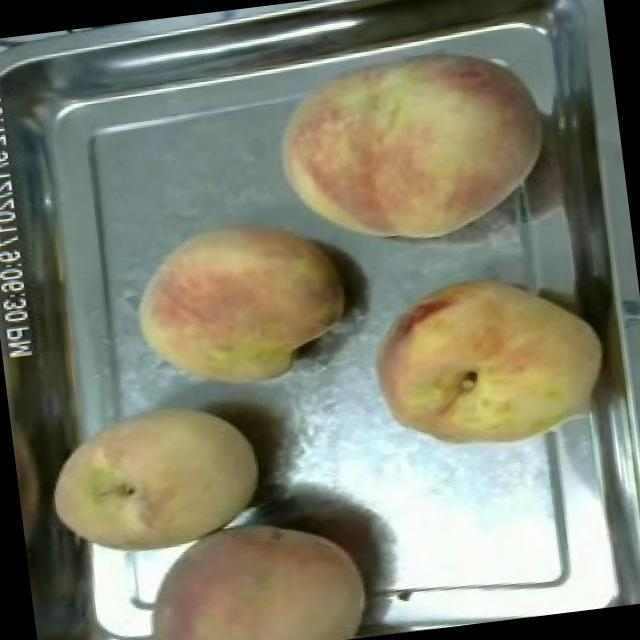Fruit: (260, 15, 564, 264), (355, 251, 625, 472), (23, 382, 278, 582), (119, 200, 362, 407), (117, 492, 381, 640)
